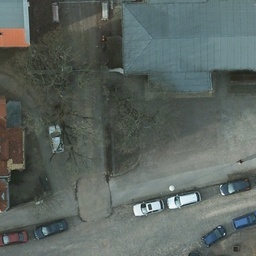car: (46, 122, 66, 157), (220, 176, 251, 197), (133, 198, 164, 218), (36, 220, 67, 239), (169, 192, 198, 209), (201, 226, 225, 245), (0, 229, 28, 244)
